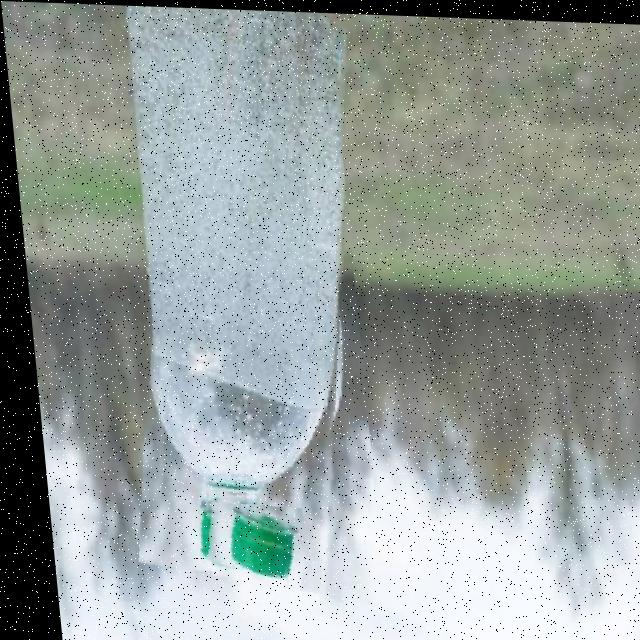litter: (103, 3, 372, 589), (194, 499, 303, 585)
